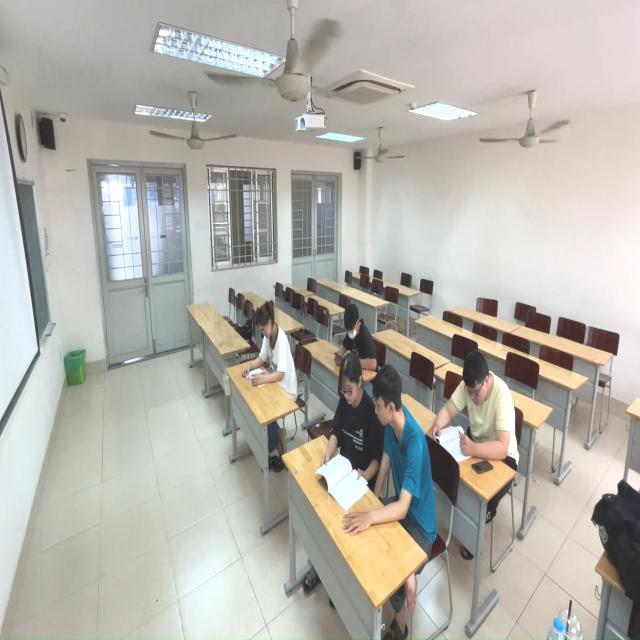read: (369, 365, 439, 542), (439, 346, 521, 470), (320, 349, 378, 504), (249, 301, 297, 407), (329, 302, 380, 371)
